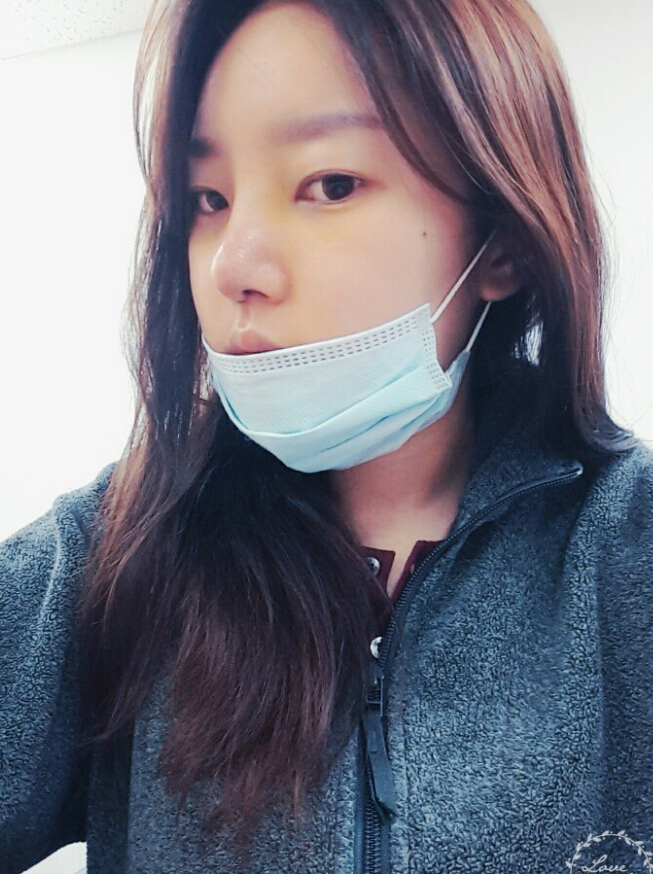face_mask: (179, 4, 454, 452)
